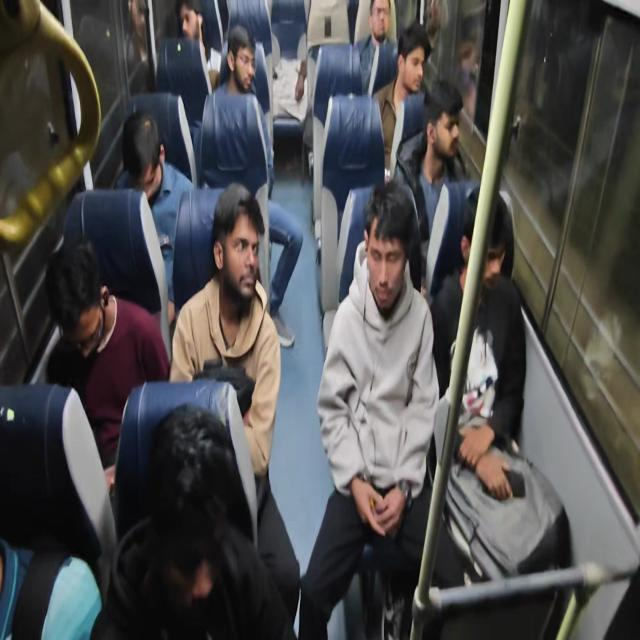person: (32, 1, 558, 638), (298, 180, 463, 638), (427, 185, 571, 636), (168, 182, 300, 629), (90, 402, 298, 639), (44, 234, 170, 497), (430, 185, 527, 501), (209, 25, 303, 347), (117, 108, 195, 321), (393, 78, 469, 294), (212, 25, 276, 196), (372, 20, 432, 179), (354, 0, 398, 96), (177, 0, 221, 94), (451, 13, 485, 131), (123, 0, 157, 95)
